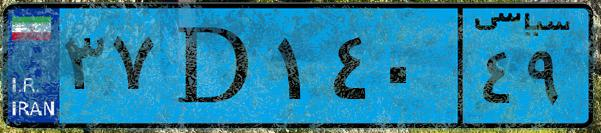0: (385, 28, 445, 110)
1: (270, 28, 330, 110)
3: (57, 26, 110, 100)
4: (330, 28, 385, 110), (475, 38, 525, 113)
7: (110, 28, 158, 98)
9: (525, 38, 570, 115)
D: (158, 12, 270, 120)
